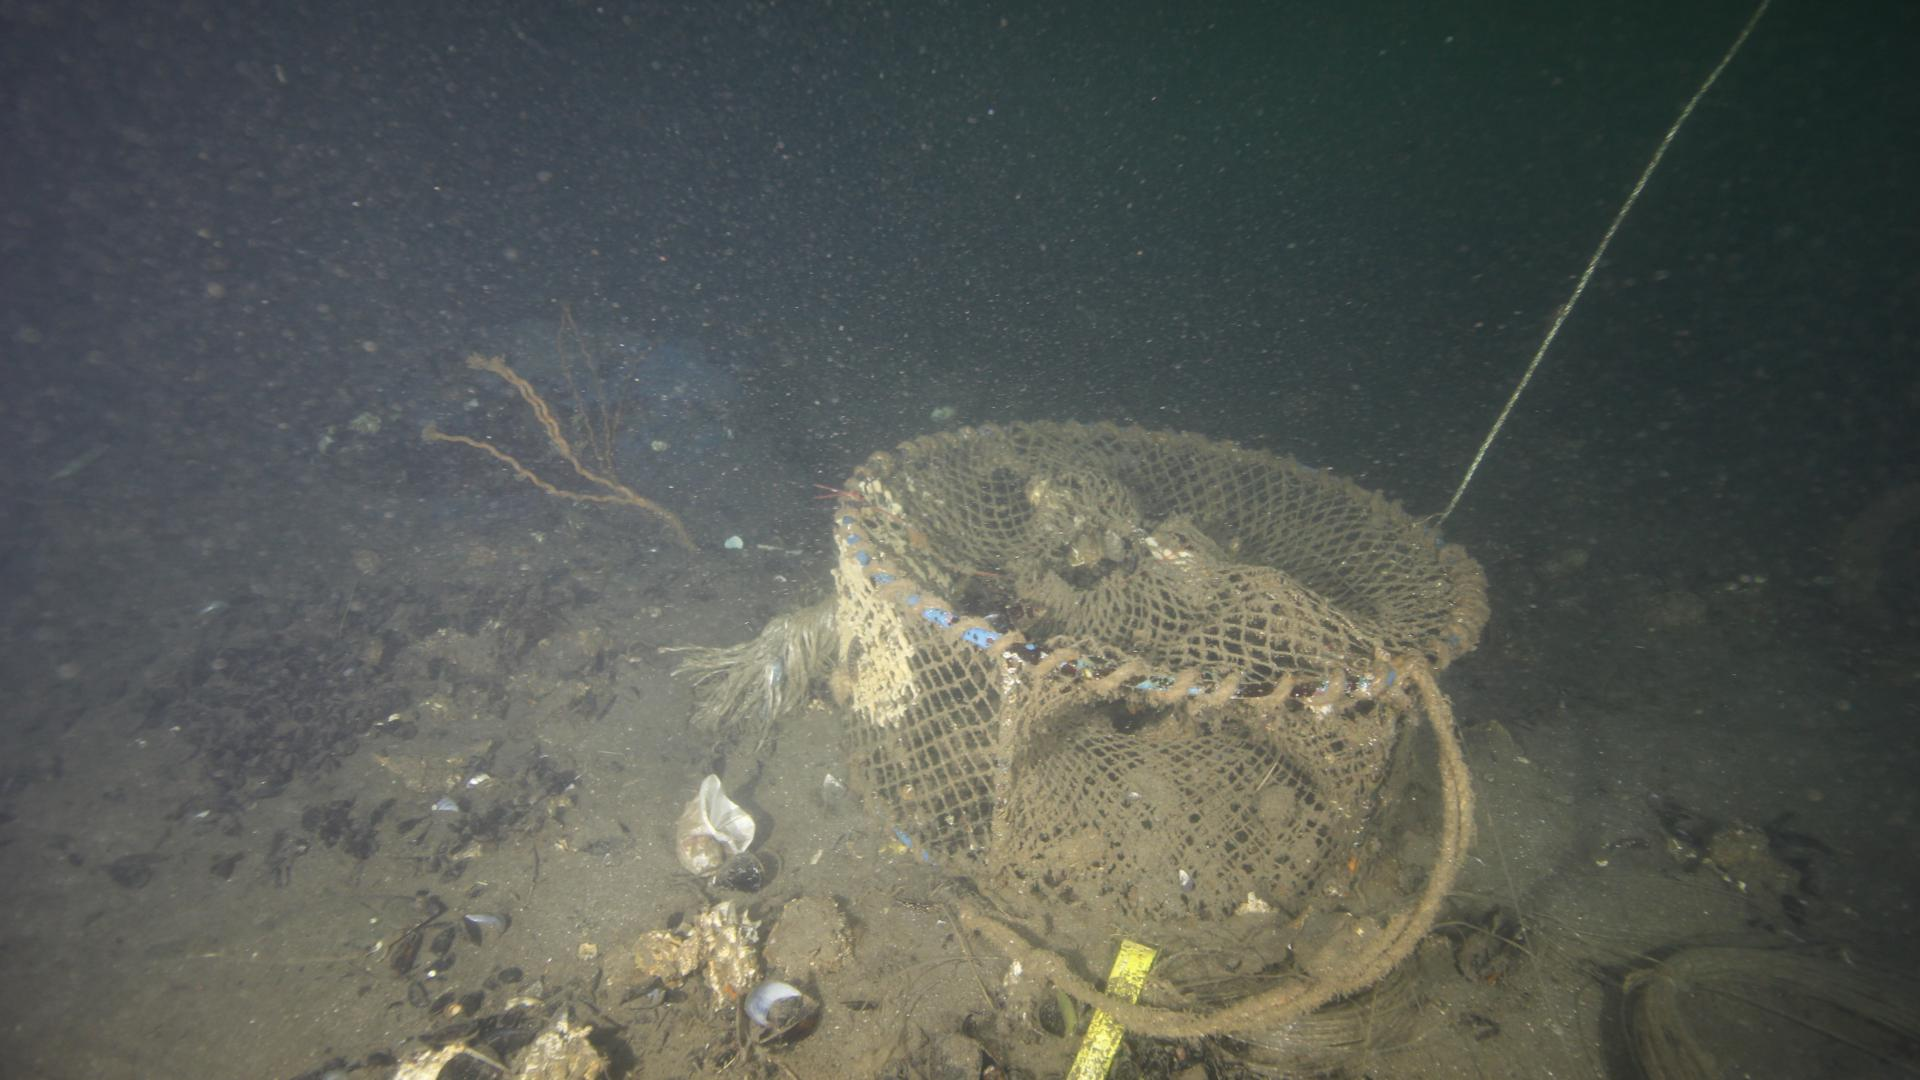bundle of ropes: (957, 658, 1474, 1036)
circular fish trap: (829, 402, 1487, 934)
rope: (1431, 0, 1768, 527)
